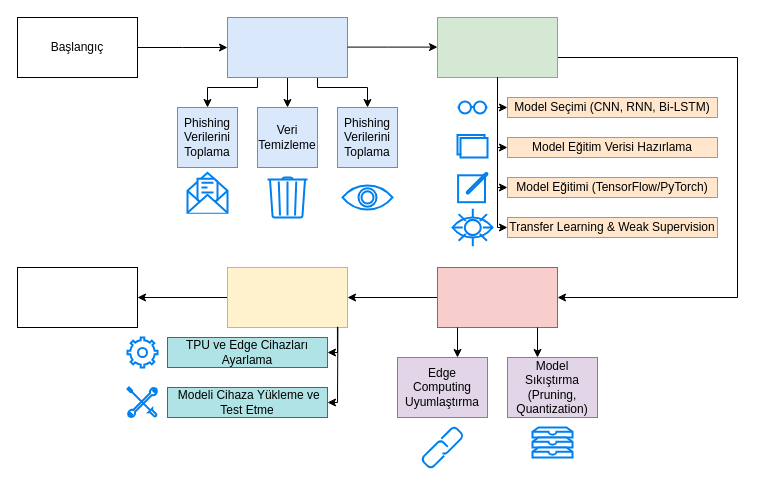
This 763x486 diagram has some shape labels left out. Each missing label, with the box of its shape:
Donanım Hazırlığı ve Entegrasyon: (226, 266, 348, 328)
Model Geliştirme: (436, 16, 558, 78)
Modelin ARM Tabanlı TPU Üzerine Entegrasyonu: (436, 266, 558, 328)
Veri Toplama ve Ön İşleme: (226, 16, 348, 78)
